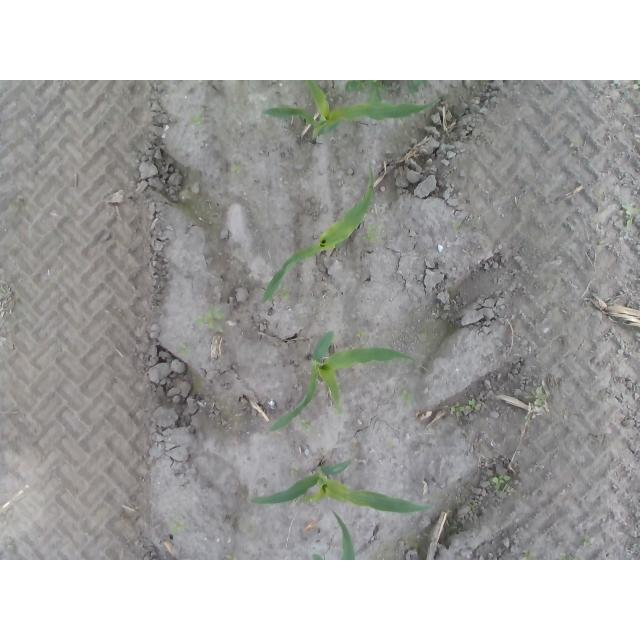Maize: (262, 165, 375, 305), (267, 329, 417, 431), (262, 80, 435, 146), (250, 459, 433, 514), (312, 512, 357, 561)
Weeds: (342, 81, 433, 108), (192, 308, 225, 332), (449, 397, 479, 419), (530, 384, 546, 405), (624, 206, 640, 226), (400, 390, 417, 407), (493, 475, 512, 489), (170, 520, 186, 535), (191, 114, 209, 127), (367, 224, 378, 241), (520, 549, 537, 560), (298, 419, 311, 433), (173, 346, 191, 355), (624, 80, 640, 90), (231, 161, 241, 176), (577, 535, 592, 545), (356, 327, 369, 337), (453, 224, 462, 231), (521, 415, 528, 423), (283, 292, 289, 300)
